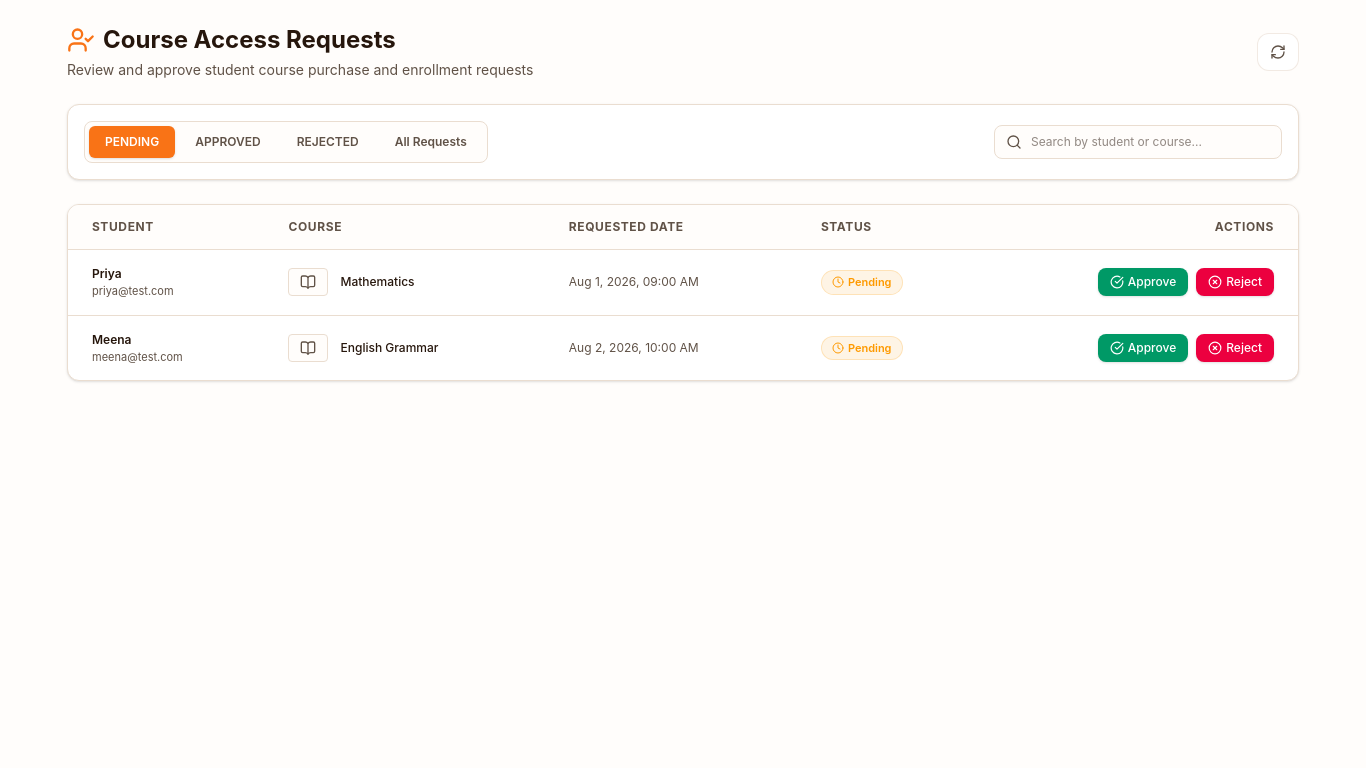
Test: CourseRequestsPage › approves a request with an admin note
This screenshot has width=1366, height=768.
Click the button "Approve" in the row of "priya@test.com".
click(1143, 282)  # box [1098,268,1188,296]
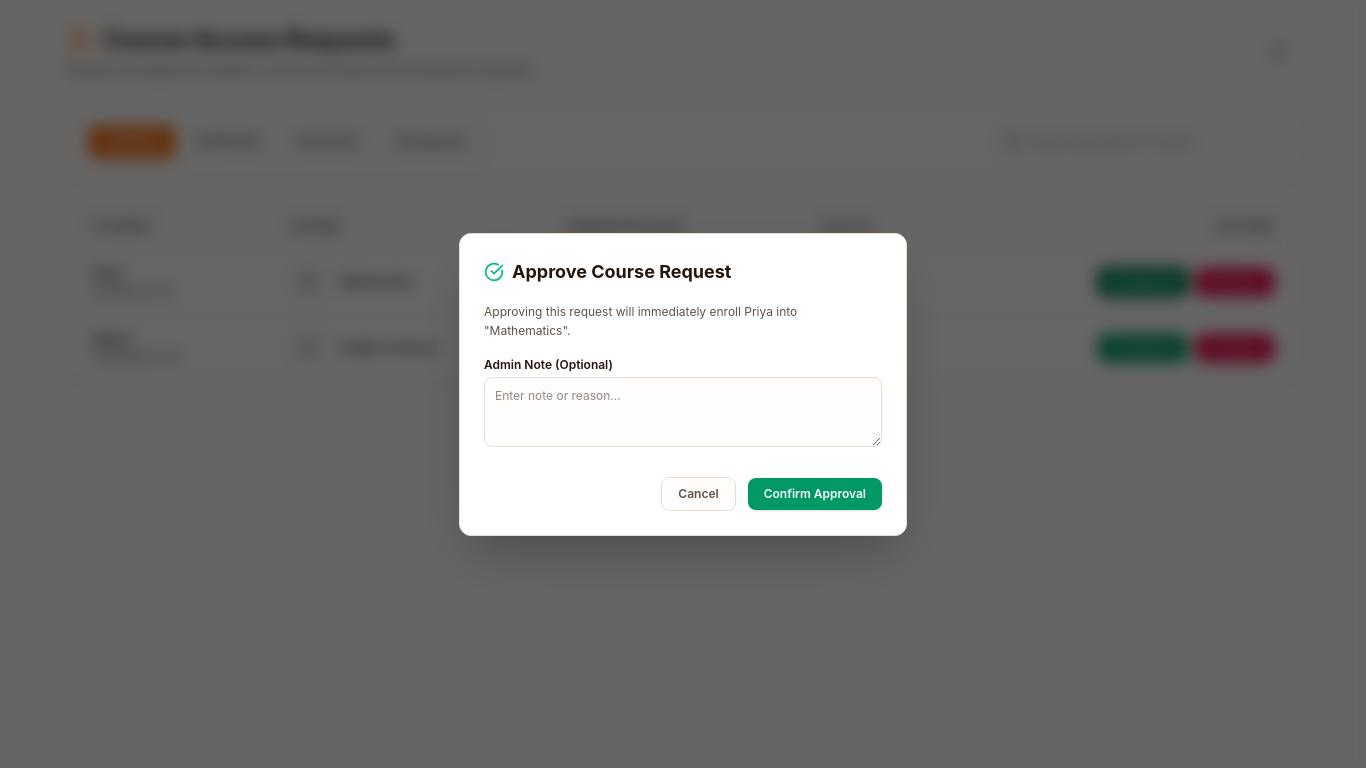
Now the heading "Approve Course Request" is shown, box [484,260,731,282]
Now the text "Approving this request will immediately enroll Priya into \"Mathematics\"." is shown, box [484,304,797,338]
Type "Verified documents" into the text box with placeholder "Enter note or reason...".
click(683, 412); type("Verified documents")  # box [484,376,882,446]
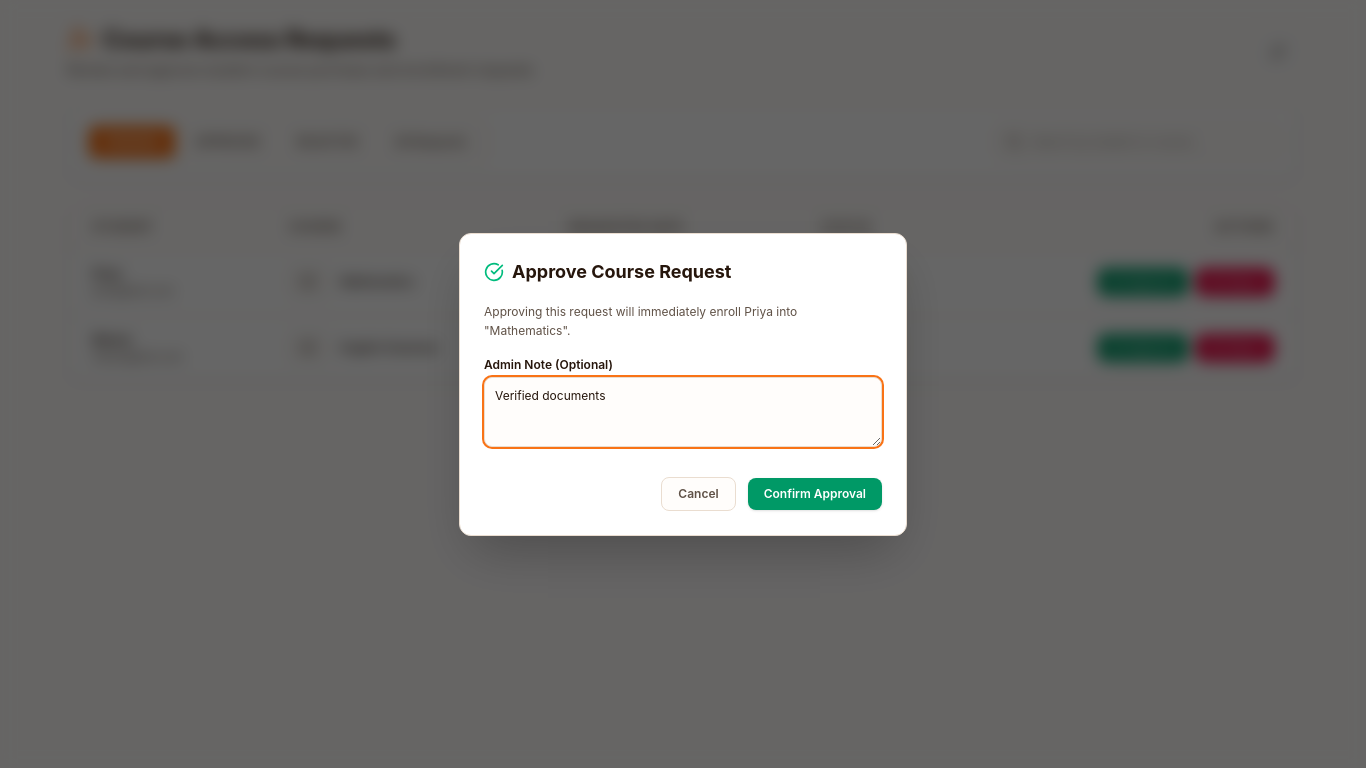
Click the button "Confirm Approval".
click(815, 494)  # box [748,478,882,510]
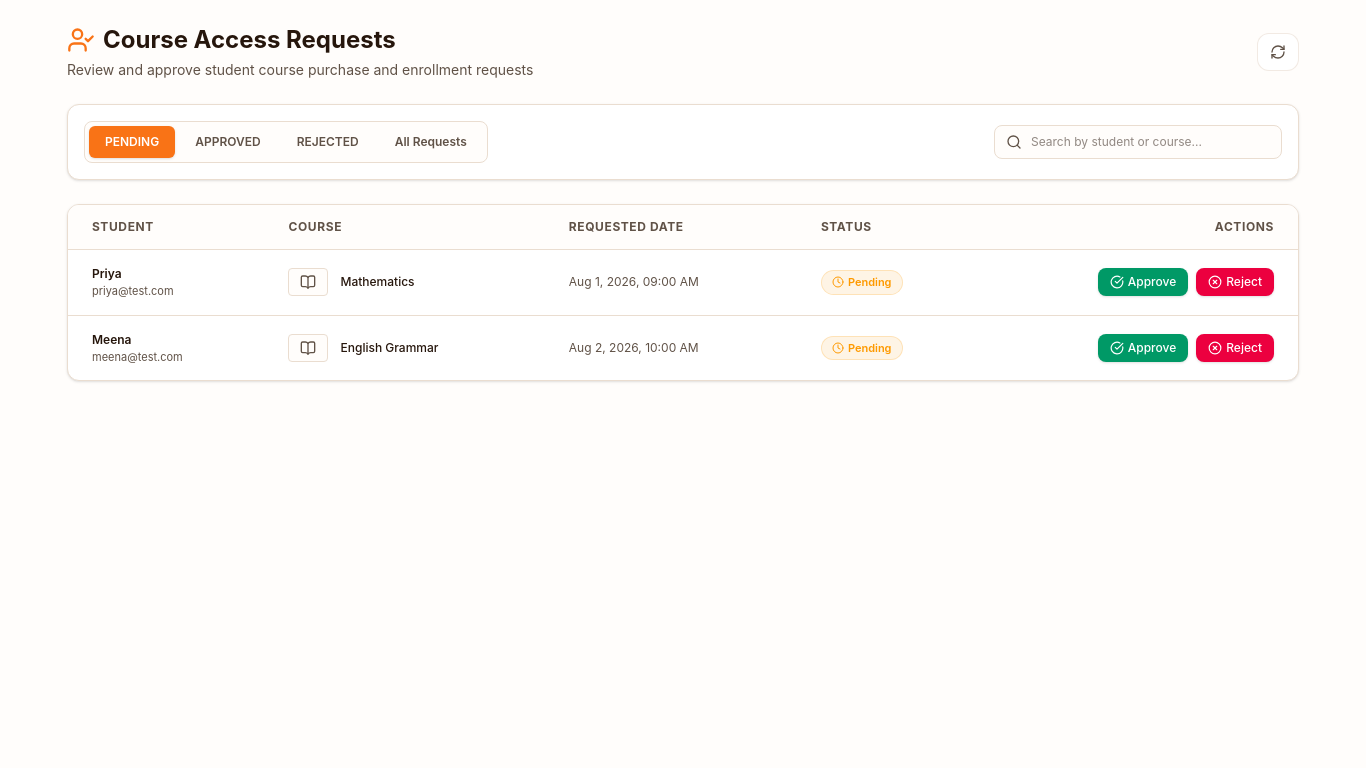
Now the heading "Approve Course Request" is gone
